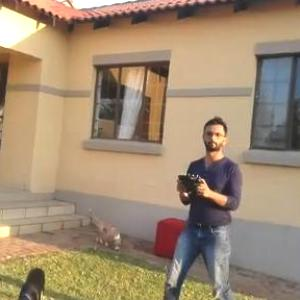follow: (157, 109, 250, 299)
null: (84, 205, 128, 253), (12, 265, 48, 299)
